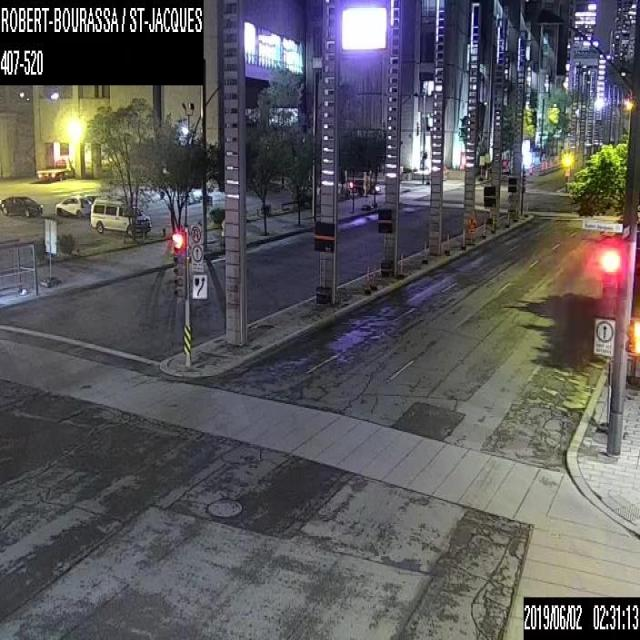construction: (468, 214, 478, 247), (490, 210, 495, 230), (399, 253, 403, 275), (505, 204, 509, 224), (365, 266, 368, 290), (371, 265, 374, 288), (512, 203, 516, 220), (423, 239, 426, 260), (445, 230, 448, 250)
vehicle: (90, 195, 151, 235), (35, 157, 73, 181), (54, 193, 90, 217), (0, 196, 43, 216), (350, 178, 381, 194)
